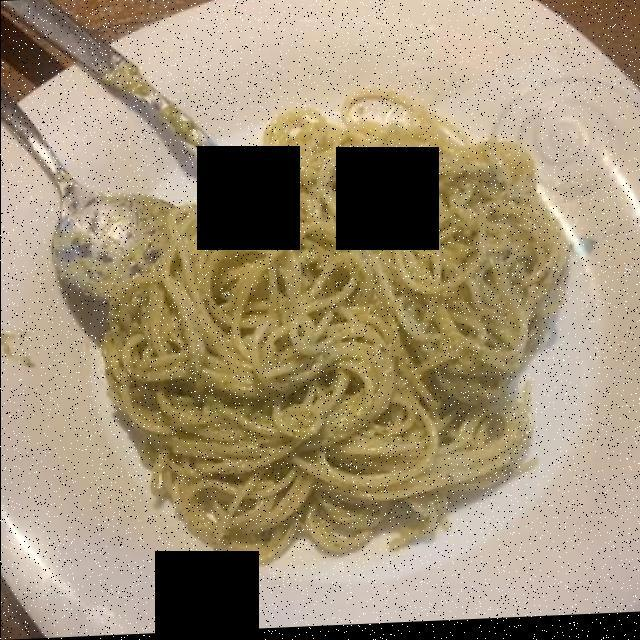pasta: (103, 101, 553, 551)
sauce: (107, 103, 551, 566)
